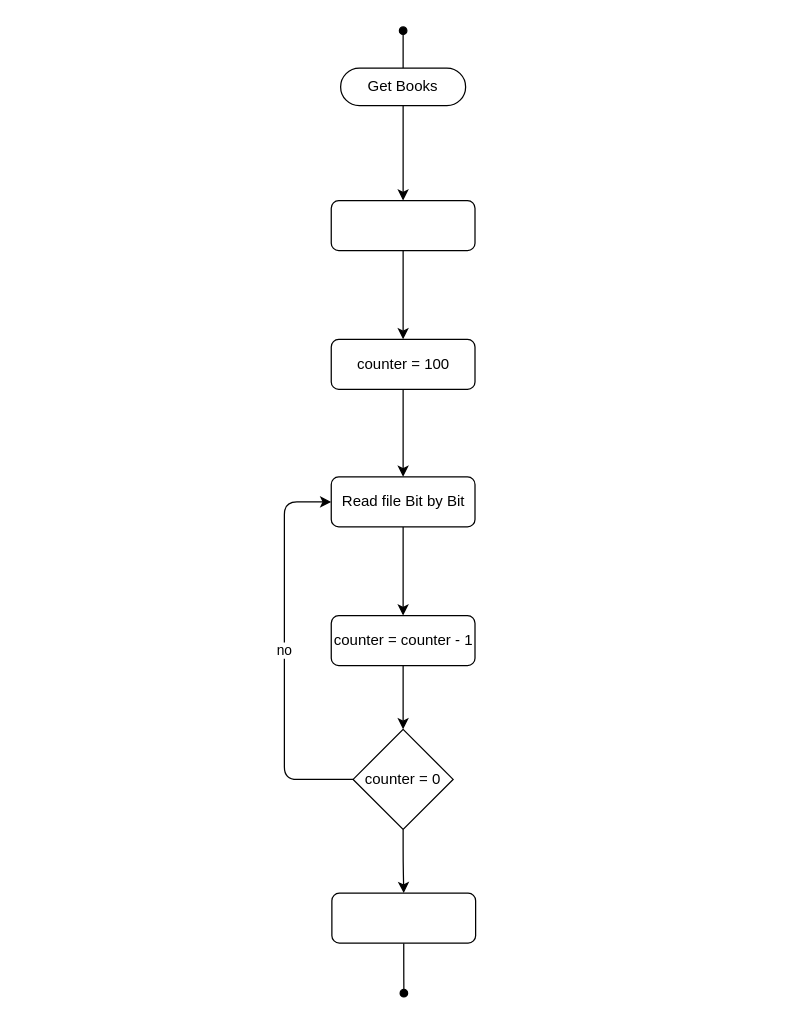
The diagram is 805 pixels wide and 1025 high, and some of its shapes have lost their labels. Here are the shapes that lost their labels. From the top down, the centre of each, then its label:
point 402,225: Open File
point 403,917: Close File
